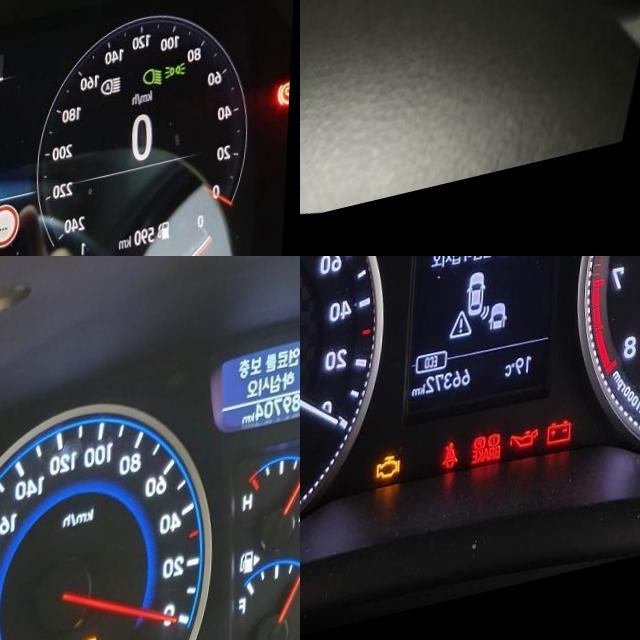Low beam: (146, 89, 167, 115)
SideLamp: (168, 83, 191, 104)
